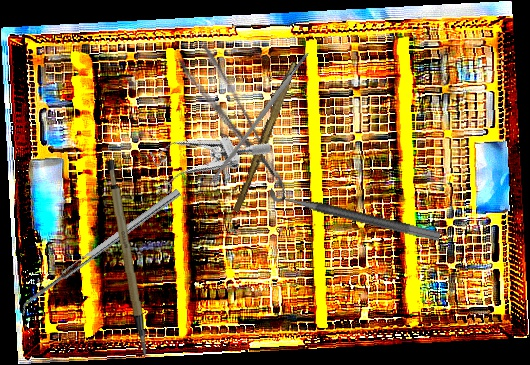Dressing Forceps: (175, 42, 289, 204)
Fixation Ring: (268, 174, 445, 243)
Scalpel Handle: (207, 51, 312, 186), (232, 59, 298, 214), (102, 159, 149, 358)
Spatula Surgical: (15, 188, 187, 319)
Speculum: (137, 103, 274, 206)
